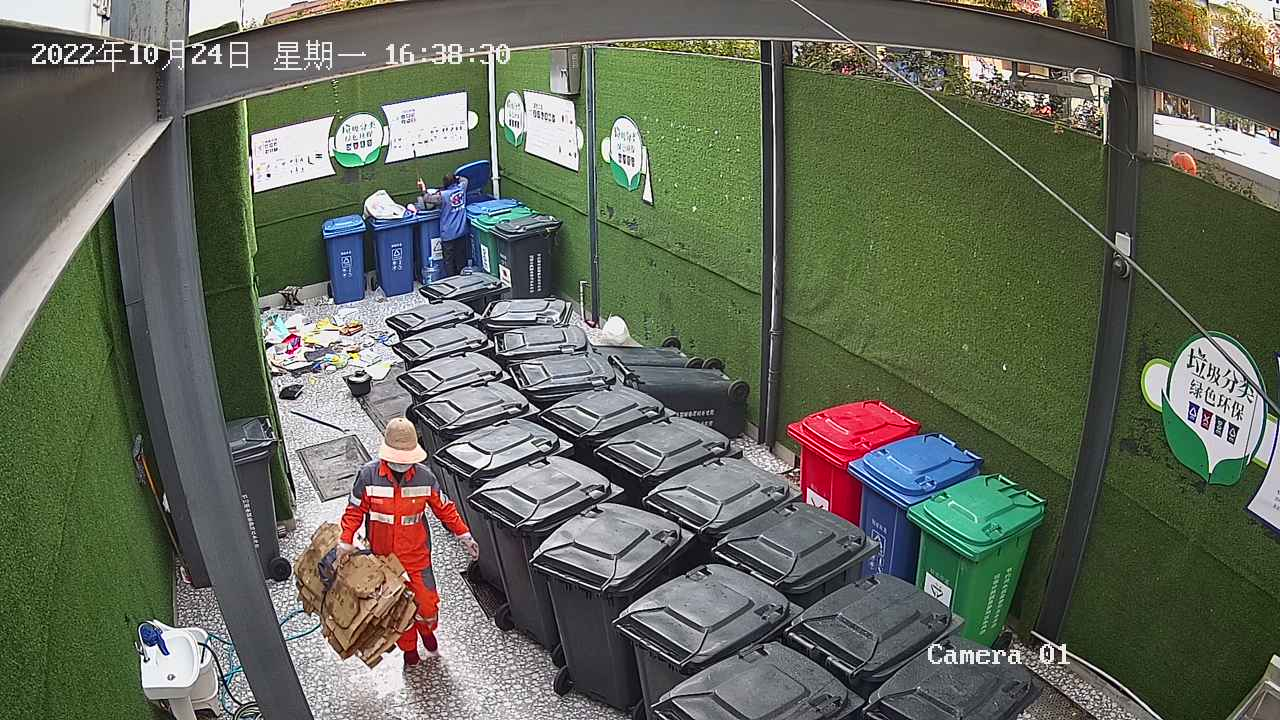worker: (332, 412, 483, 673)
zhizhipin: (287, 514, 420, 673)
